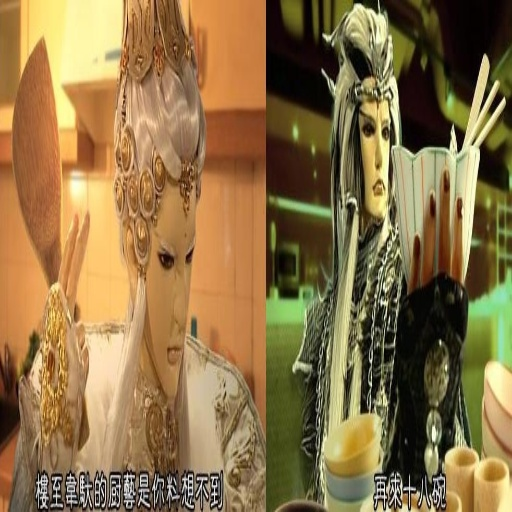hand: (407, 163, 462, 443), (56, 202, 91, 368)
